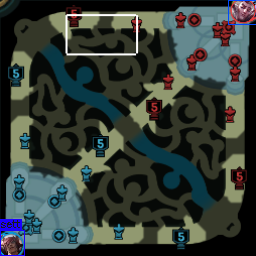rakan: (230, 1, 255, 22)
sett: (1, 230, 24, 255)
